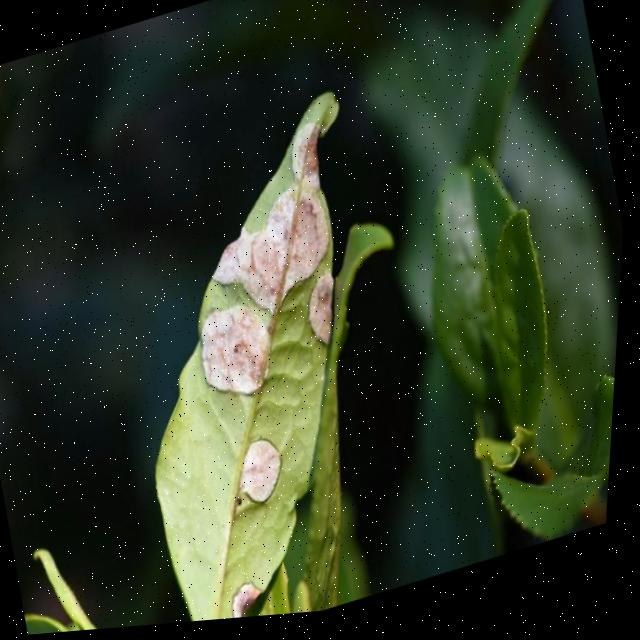Tea cake: (190, 125, 350, 314), (188, 297, 285, 412), (236, 439, 300, 513), (302, 280, 354, 354), (222, 571, 284, 624)
